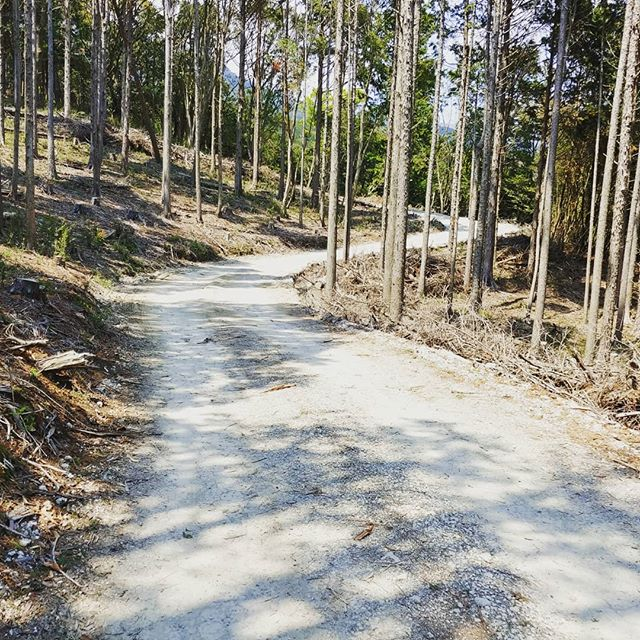road: (100, 240, 640, 640)
vegetation: (8, 8, 638, 323)
